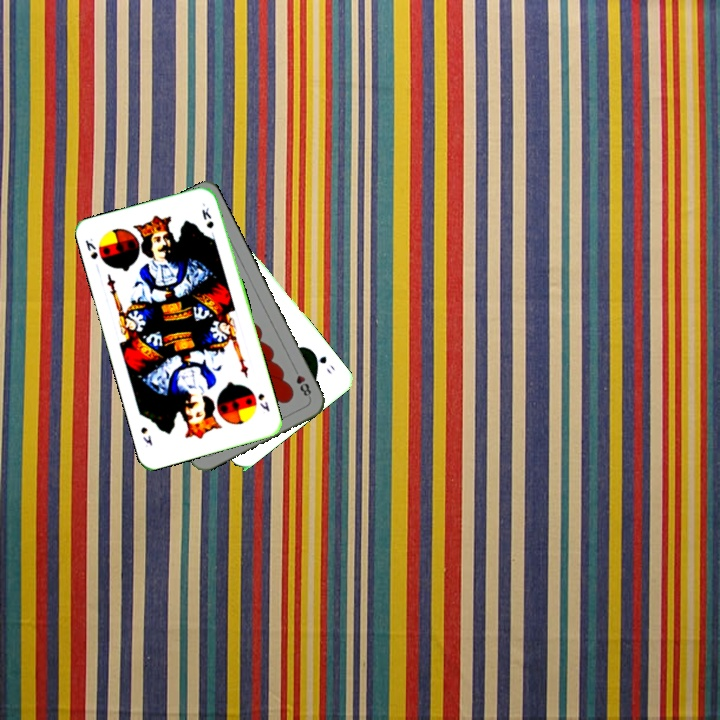GO: (308, 347, 337, 377)
H8: (289, 363, 314, 401)
SK: (81, 234, 100, 262), (254, 389, 272, 414)
